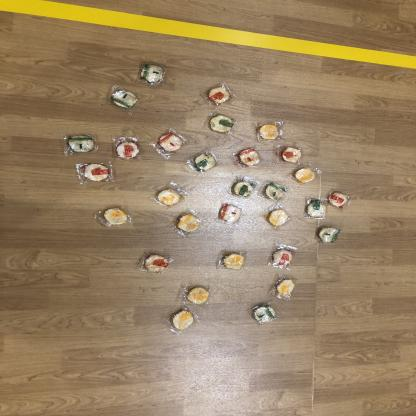green_setoshio: (108, 87, 143, 113), (64, 132, 100, 156), (138, 62, 166, 88), (249, 302, 279, 324), (207, 113, 236, 135), (191, 152, 220, 173), (230, 178, 258, 198), (303, 197, 326, 220), (316, 225, 340, 245), (263, 181, 288, 200)
red_setoshio: (140, 251, 171, 276), (111, 137, 142, 162), (78, 162, 114, 183), (216, 202, 245, 225), (206, 84, 233, 108), (156, 132, 184, 155), (235, 147, 263, 168), (326, 190, 352, 211), (270, 246, 294, 268), (282, 146, 304, 164)
yellow_setoshio: (167, 309, 200, 333), (100, 206, 132, 226), (154, 186, 183, 208), (218, 251, 248, 271), (182, 286, 212, 306), (174, 212, 201, 233), (256, 122, 284, 142), (266, 208, 291, 228), (274, 277, 297, 298), (291, 166, 319, 183)
